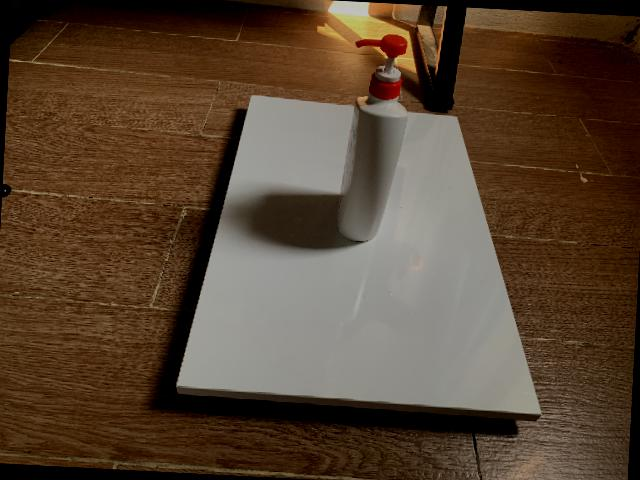life-buoy: (337, 35, 408, 243)
